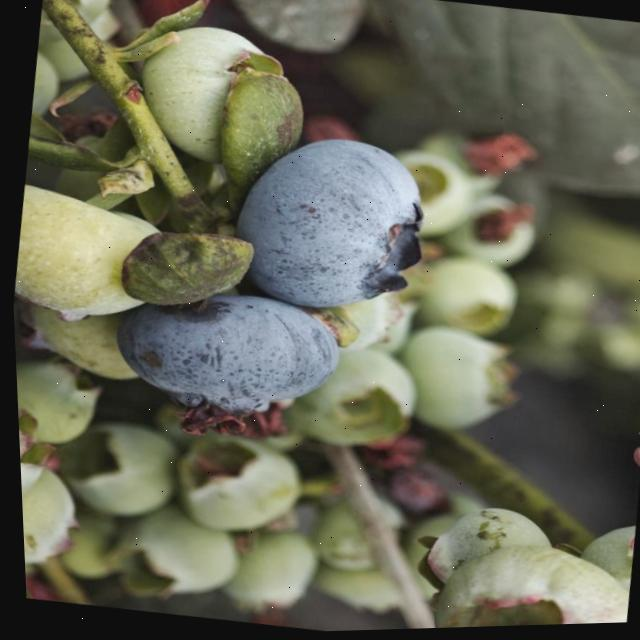RipeBlueBerry: (231, 128, 434, 324), (94, 278, 344, 437)
UnripeBlueBerry: (126, 18, 292, 178), (6, 182, 167, 332), (416, 537, 628, 631), (164, 423, 303, 542), (284, 340, 420, 457), (396, 325, 525, 446), (56, 413, 180, 523), (104, 509, 232, 607), (397, 254, 511, 347), (12, 351, 110, 451)
